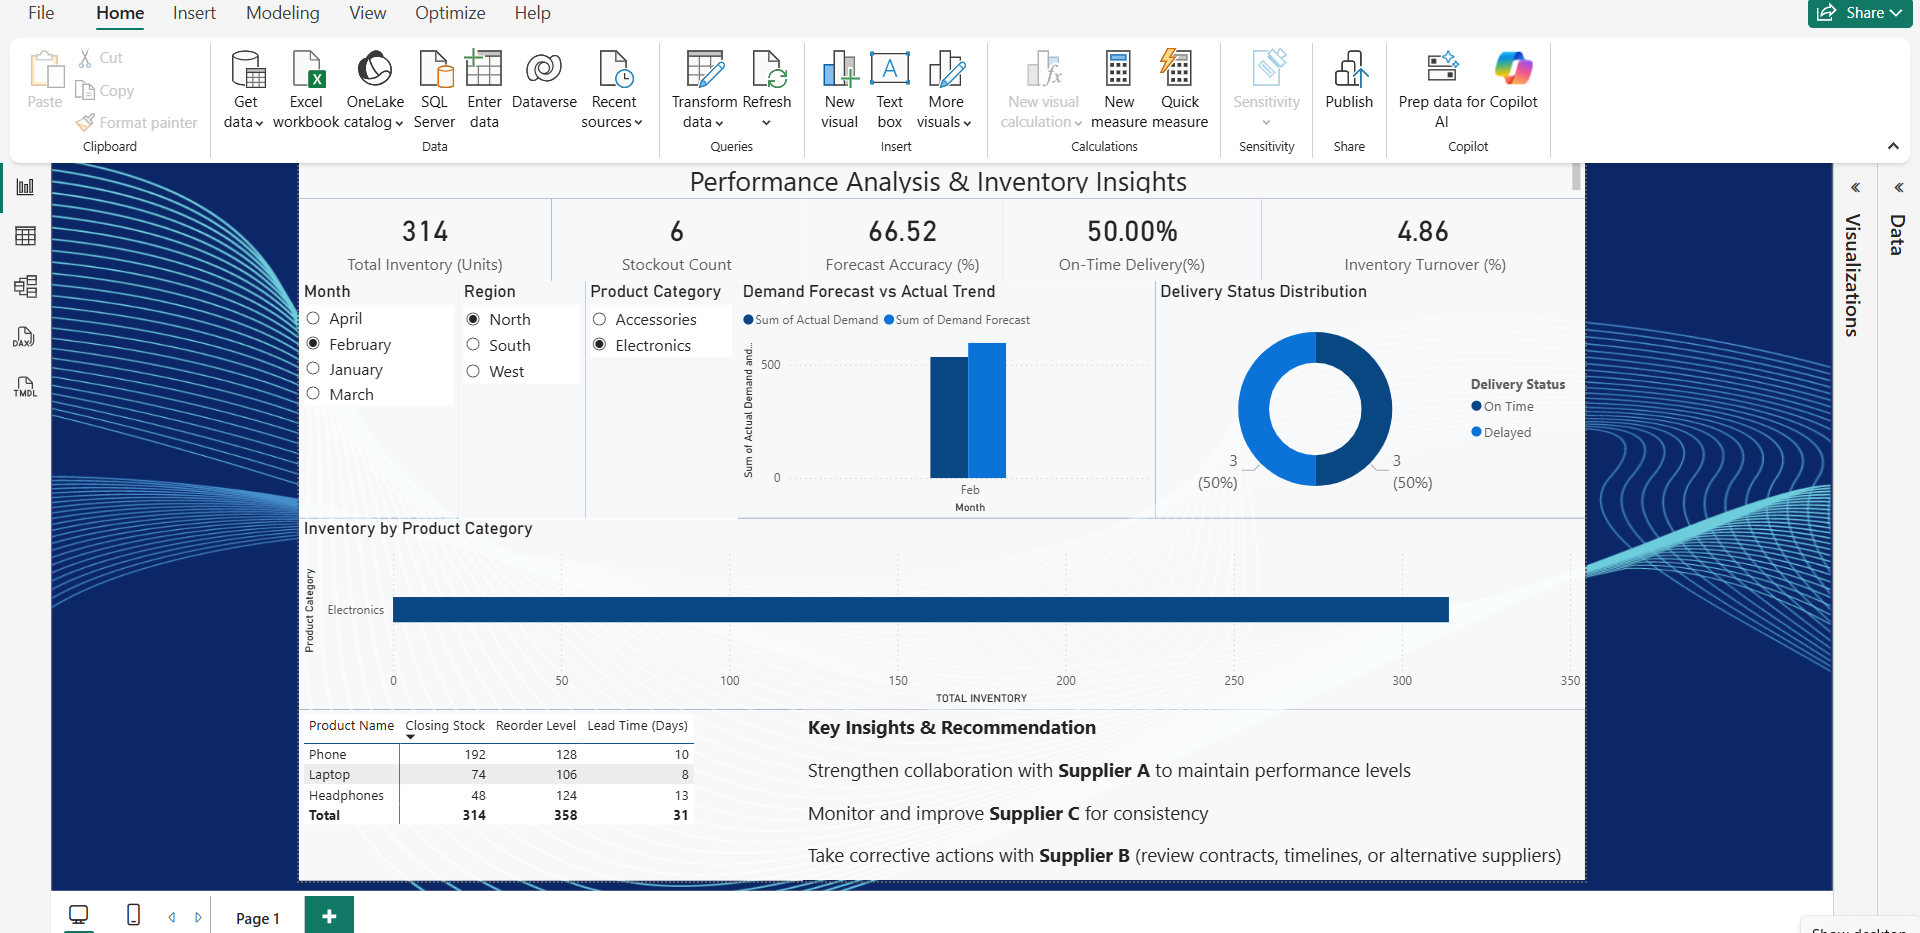

What the dashboard file says about the page in this screenshot:
{"tool":"powerbi","page":{"name":"Page 1","canvas":[1280,720],"ordinal":0},"visuals":[{"type":"card","fields":{"Values":["DateTable.Forecast Accuracy%"]},"box":[501.3,41.1,199,82.1],"z":0},{"type":"card","fields":{"Values":["DateTable.On-Time Delivery%"]},"box":[700.3,41.1,257.5,82.1],"z":1000},{"type":"donutChart","title":"Delivery Status Distribution","fields":{"Category":["Sheet1.Delivery Status"],"Y":["CountNonNull(Sheet1.Delivery Status)"]},"box":[852.1,123.2,427.9,236.4],"z":2000},{"type":"clusteredColumnChart","title":"Demand Forecast vs Actual Trend","fields":{"Category":["Sheet1.Month"],"Y":["Sum(Sheet1.Actual Demand)","Sum(Sheet1.Demand Forecast)"]},"box":[436.6,123.2,415.5,236.4],"z":3000},{"type":"clusteredBarChart","title":"Inventory by Product Category","fields":{"Category":["Sheet1.Product Category"],"Y":["DateTable.TOTAL INVENTORY"]},"box":[0,359.5,1280,190.3],"z":4000},{"type":"textbox","box":[0,0,1280,41.1],"z":5000},{"type":"listSlicer","title":"Month","fields":{"Values":["DateTable.Month"]},"box":[0,123.2,159.2,236.4],"z":6000},{"type":"listSlicer","fields":{"Values":["Sheet1.Region"]},"box":[159.2,123.2,125.6,237.6],"z":7000},{"type":"listSlicer","fields":{"Values":["Sheet1.Product Category"]},"box":[284.9,123.2,151.8,237.6],"z":8000},{"type":"pivotTable","fields":{"Rows":["Sheet1.Product Name"],"Values":["Sum(Sheet1.Closing Stock)","Sum(Sheet1.Reorder Level)","Sum(Sheet1.Lead Time (Days))"]},"box":[0,549.8,501.3,170.4],"z":9000},{"type":"card","fields":{"Values":["DateTable.STOCKOUT COUNT"]},"box":[251.3,41.1,250,82.1],"z":10000},{"type":"card","fields":{"Values":["Date Table.TOTAL INVENTORY"]},"box":[0,41.1,251.3,82.1],"z":11000},{"type":"card","fields":{"Values":["Max(Sheet1.Inventory Turnover Ratio)"]},"box":[957.8,41.1,322.2,82.1],"z":12000},{"type":"textbox","box":[501.3,549.8,778.7,170.4],"z":13000}]}

Visuals, with their boxes on the page's 1280x720 design canvas (x1, y1, x2, y2). These are canvas units, not pixel positions in the 1920x933 screenshot, which may show the page scaled, cropped or inside an application window:
card - DateTable.Forecast Accuracy%: box(501, 41, 700, 123)
card - DateTable.On-Time Delivery%: box(700, 41, 958, 123)
"Delivery Status Distribution" donutChart: box(852, 123, 1280, 360)
"Demand Forecast vs Actual Trend" clusteredColumnChart: box(437, 123, 852, 360)
"Inventory by Product Category" clusteredBarChart: box(0, 360, 1280, 550)
textbox: box(0, 0, 1280, 41)
"Month" listSlicer: box(0, 123, 159, 360)
listSlicer - Sheet1.Region: box(159, 123, 285, 361)
listSlicer - Sheet1.Product Category: box(285, 123, 437, 361)
pivotTable - Sheet1.Product Name x Sum(Sheet1.Closing Stock): box(0, 550, 501, 720)
card - DateTable.STOCKOUT COUNT: box(251, 41, 501, 123)
card - Date Table.TOTAL INVENTORY: box(0, 41, 251, 123)
card - Max(Sheet1.Inventory Turnover Ratio): box(958, 41, 1280, 123)
textbox: box(501, 550, 1280, 720)
